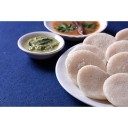idly: (67, 51, 106, 81), (78, 65, 107, 97), (104, 74, 128, 105), (82, 31, 114, 46), (109, 53, 128, 73), (116, 28, 128, 40)
